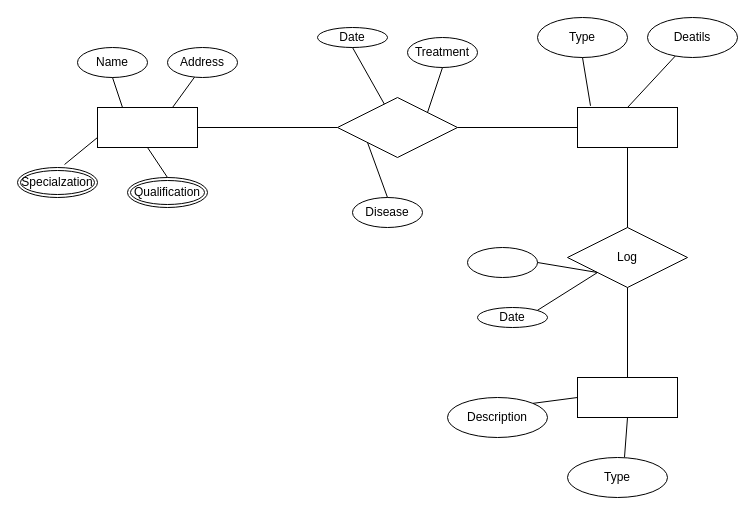
This 755x515 diagram has some shape labels left out. Each missing label, with the box of its shape:
Doctor: (96, 106, 198, 148)
Patient: (576, 106, 678, 148)
Reort: (466, 246, 538, 278)
Test: (576, 376, 678, 418)
Treats: (336, 96, 458, 158)
